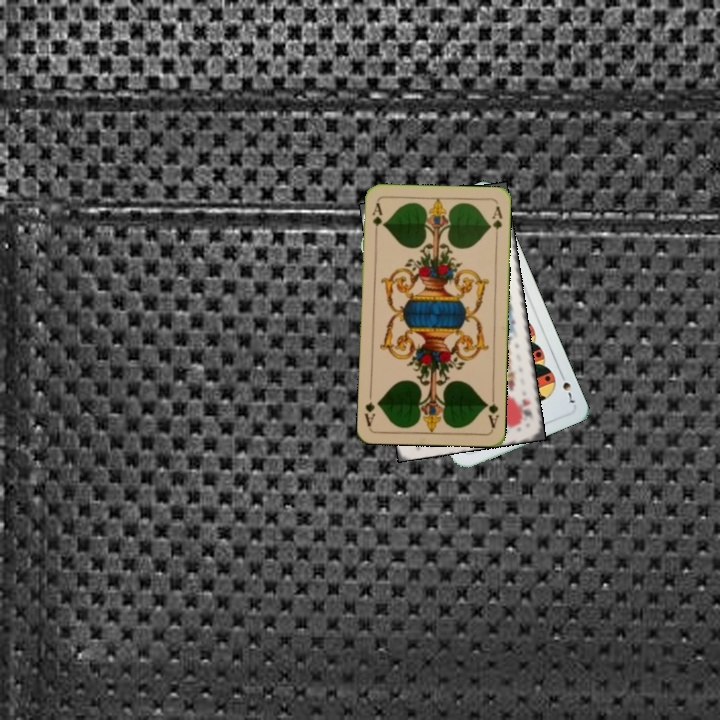GA: (481, 390, 501, 431), (368, 198, 385, 239)
HK: (518, 394, 535, 421)
S7: (556, 368, 577, 406)
